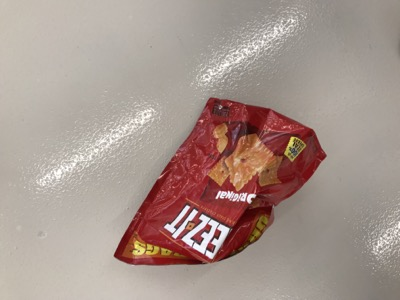cheez-it: (111, 95, 328, 268)
